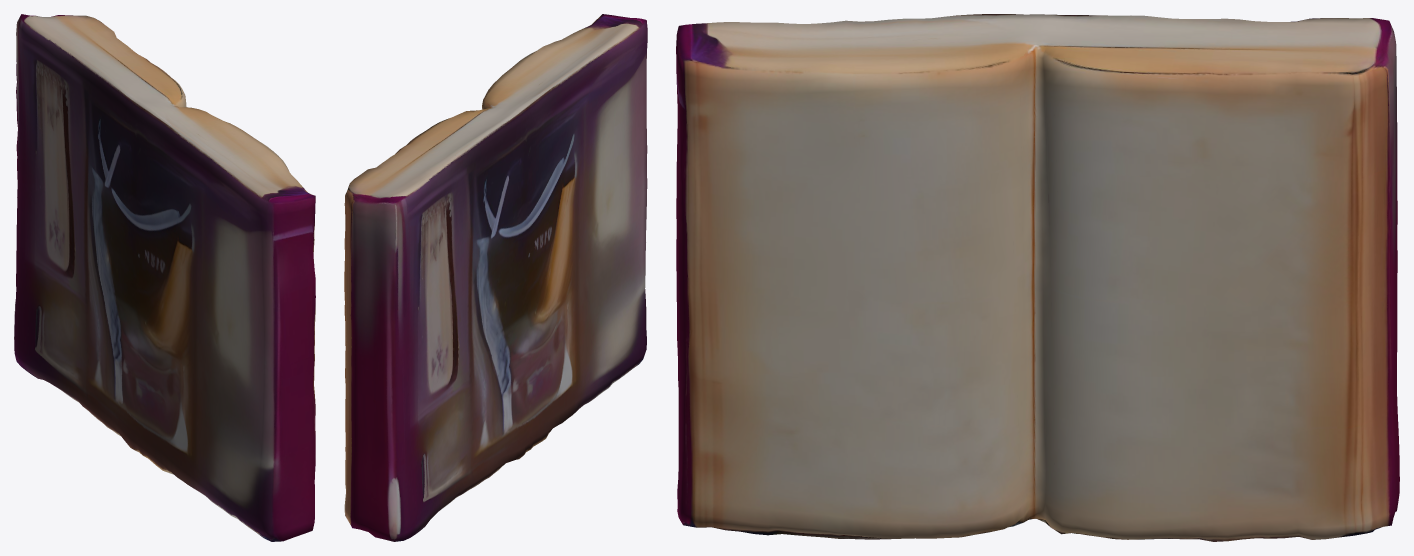
Rendered from Book.fbx.
3 views of the same model, side by side, from view 1: azimuth 30°, elevation 25°; view 2: azimuth 150°, elevation 25°; view 3: azimuth 270°, elevation 25° (orthographic). The views are drawn at different scales.
Visible parts, largest first — view 1: RETOPO; view 2: RETOPO; view 3: RETOPO.
Part boxes in pixels (<box>): RETOPO: <box>14,14,315,541</box>; RETOPO: <box>344,14,647,541</box>; RETOPO: <box>676,14,1399,541</box>.
Size of the model in its own units: 16.22 by 74.47 by 99.9.
1 material, 1 textured.
